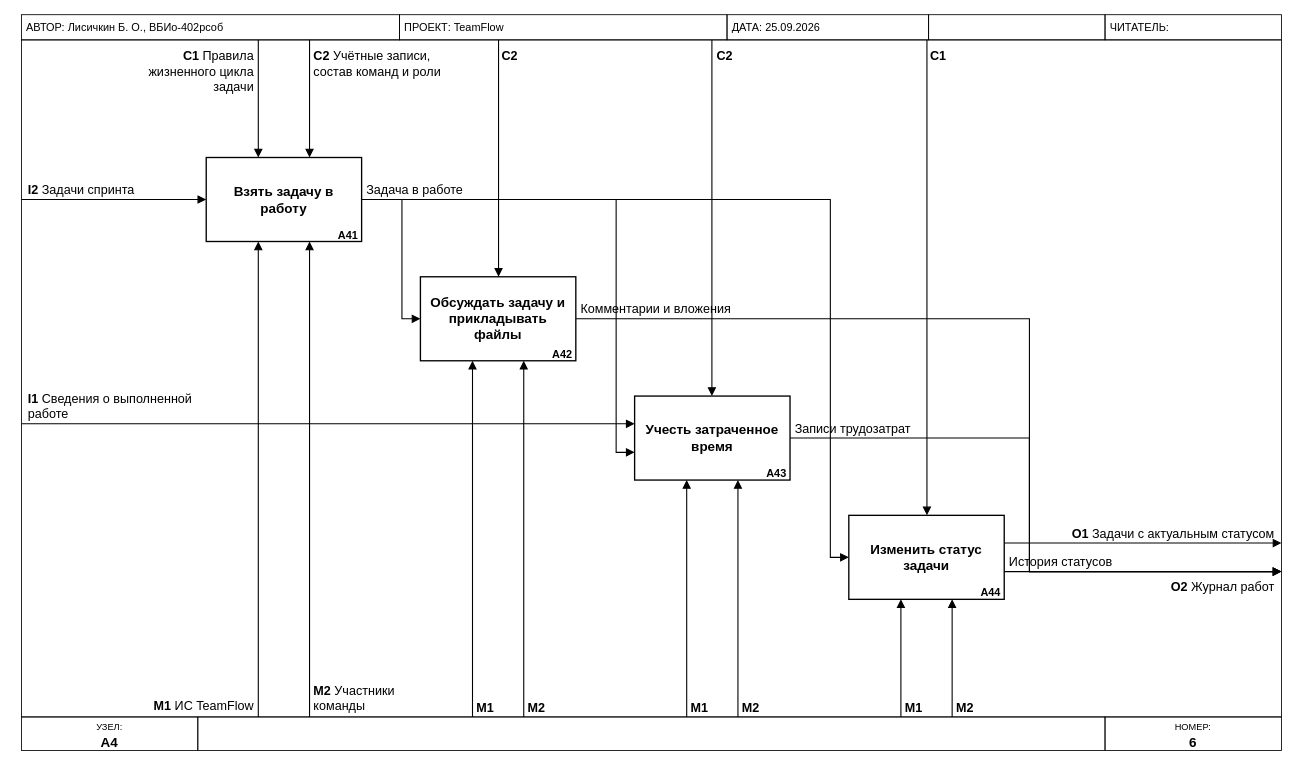
This 1305x765 diagram has some shape labels left out. Each missing label, with the centre of its shape:
"НАЗВАНИЕ: Выполнять задачи" belongs at point (651, 733).
"РАБОЧАЯ ВЕРСИЯ" belongs at point (1016, 27).
